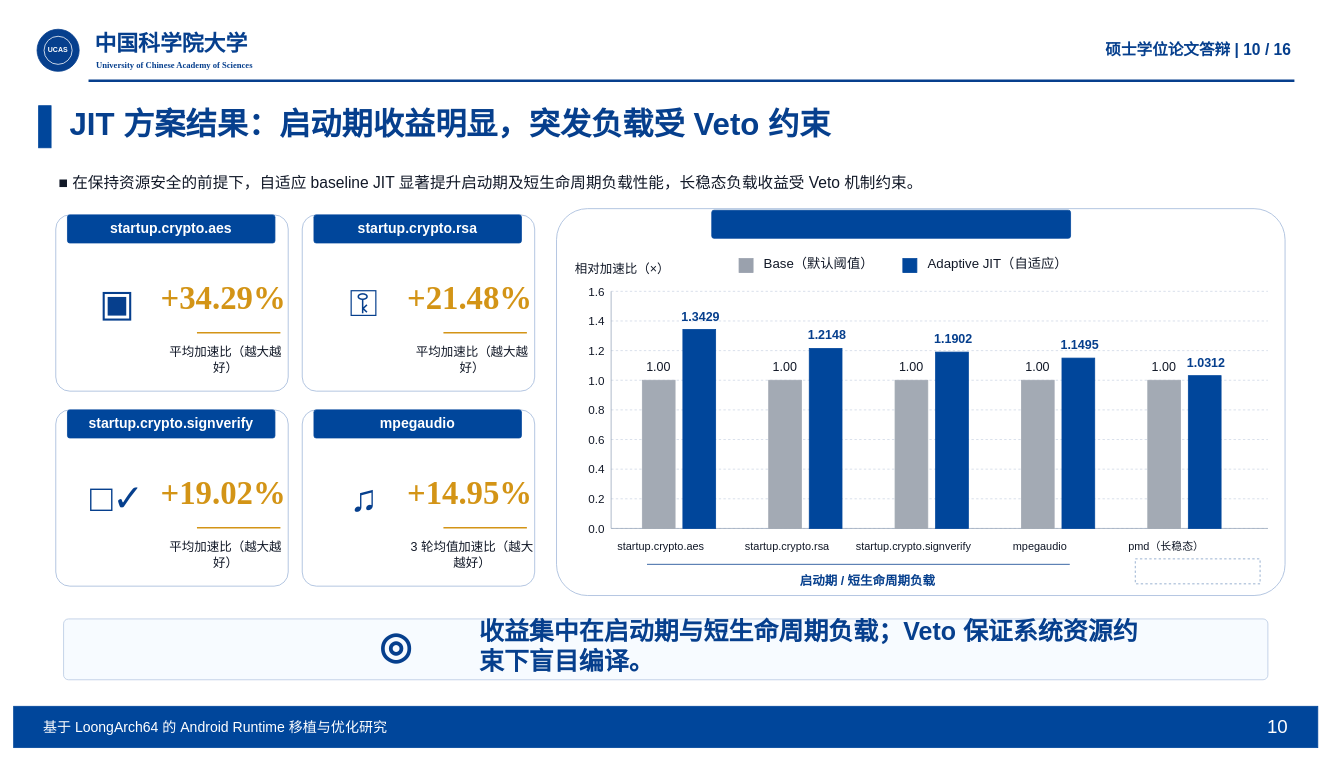
The diagram is 1331 pixels wide and 761 high, and some of its shapes have lost their labels. The shapes that lost their labels are listed below. From the top down, each one's centre as x and y in pixels, then its label:
At point 891,223: "各负载相对加速比对比（相对 Base，越大越好）".
At point 1197,571: "边界案例：受 Veto 约束".
